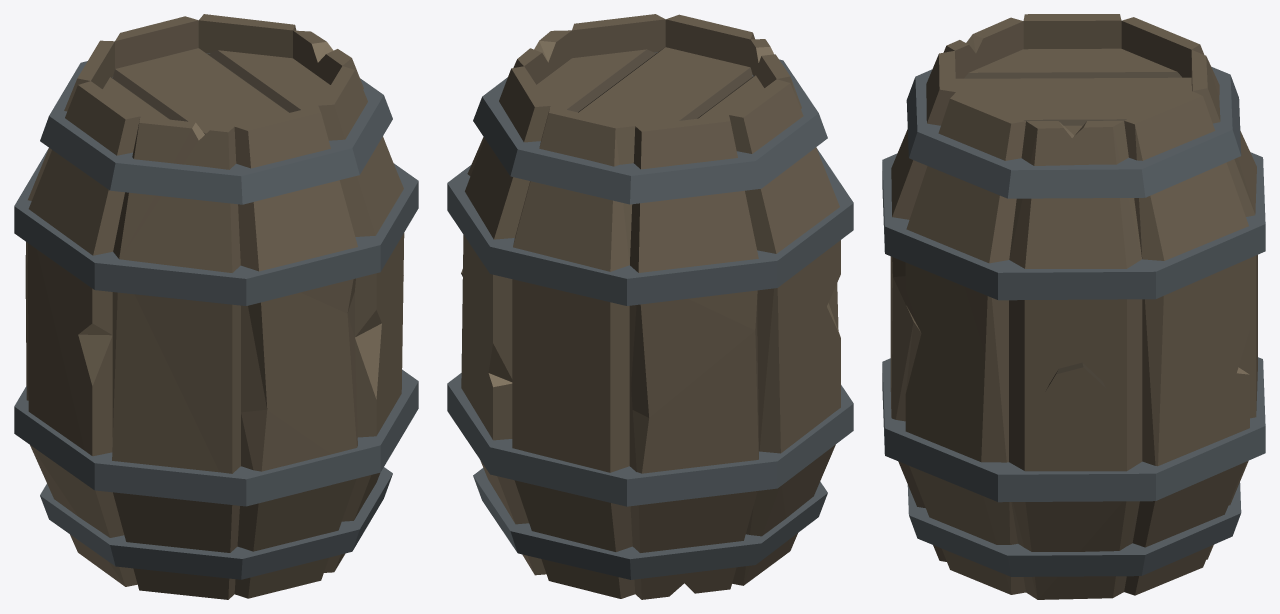
The model's file is Barrel_LowPoly.glb.
3 renders of one model, left to right at view 1: azimuth 30°, elevation 25°; view 2: azimuth 150°, elevation 25°; view 3: azimuth 270°, elevation 25°, orthographic.
Parts seen in each view (by area): view 1: SM_Prop_Barrel_01; view 2: SM_Prop_Barrel_01; view 3: SM_Prop_Barrel_01.
Boxes of the visible parts, x1=… form: SM_Prop_Barrel_01: x1=14, y1=14, x2=418, y2=599; SM_Prop_Barrel_01: x1=447, y1=14, x2=853, y2=599; SM_Prop_Barrel_01: x1=882, y1=14, x2=1265, y2=599.
Size of the model in its own units: 2.03 by 2.69 by 1.98.
Materials: 1 (1 with a texture image).
